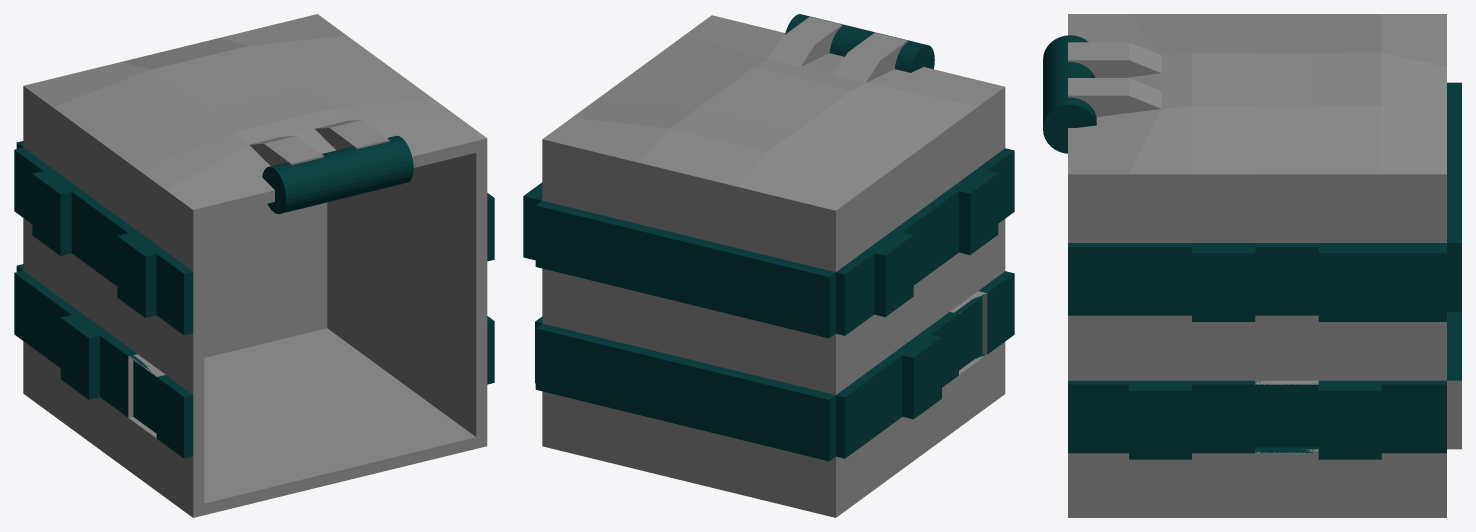
Rendered from Safe.fbx.
3 renders of one model, left to right at view 1: azimuth 30°, elevation 25°; view 2: azimuth 150°, elevation 25°; view 3: azimuth 270°, elevation 25°, orthographic. The views are drawn at different scales.
Visible parts, largest first — view 1: Cube; view 2: Cube; view 3: Cube.
Boxes of the visible parts, x1,y1,x2,y2 form: Cube: (14,14,494,517); Cube: (523,14,1014,517); Cube: (1043,14,1461,517).
Size of the model in its own units: 44.79 by 42.38 by 43.65.
